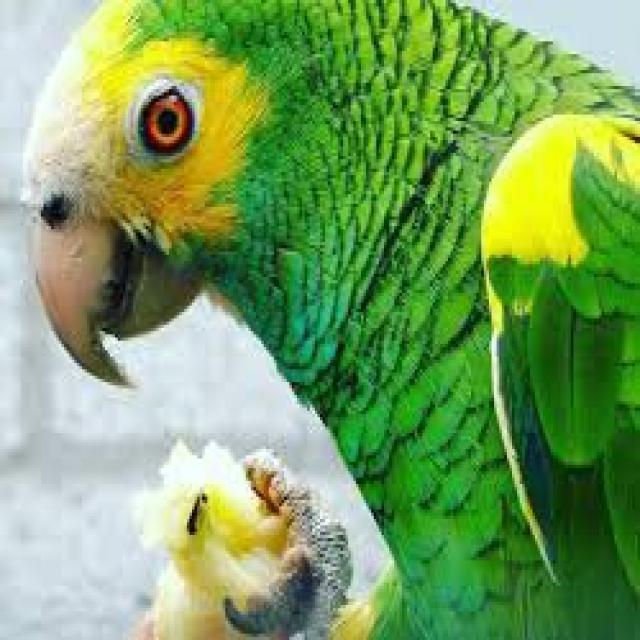Parrot: (23, 0, 640, 541)
